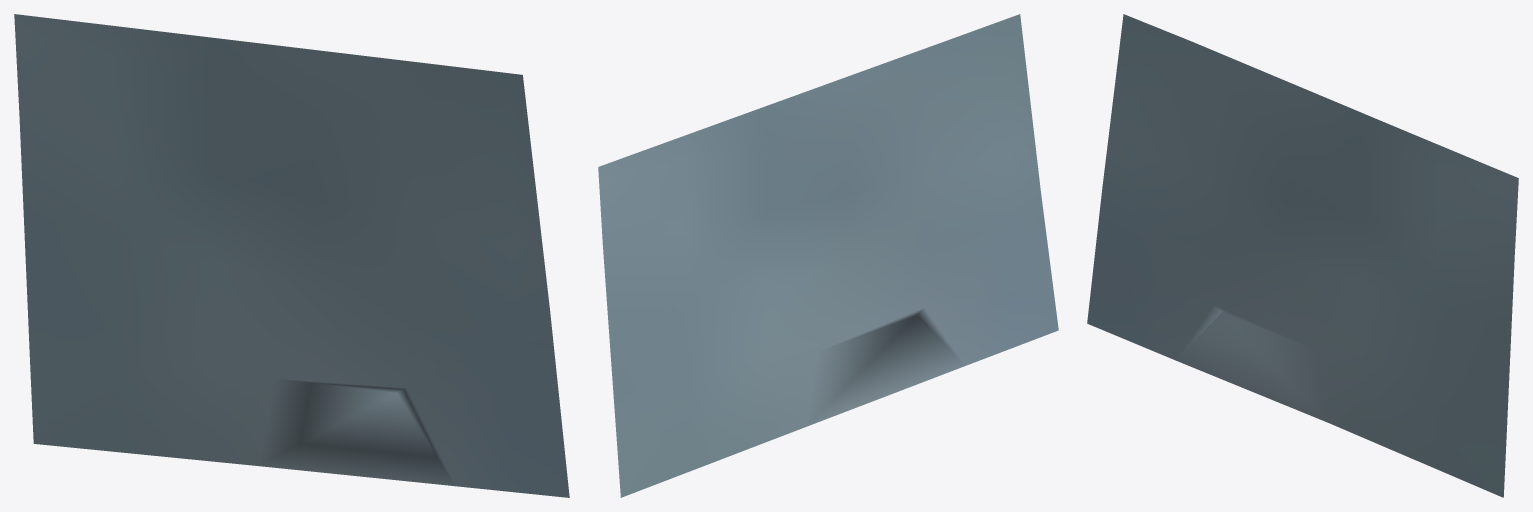
3 renders of one model, left to right at view 1: azimuth 90°, elevation 25°; view 2: azimuth 150°, elevation 25°; view 3: azimuth 270°, elevation 25°, orthographic. The views are drawn at different scales.
Visible parts, largest first — view 1: Tile_1.006; view 2: Tile_1.006; view 3: Tile_1.006.
Boxes of the visible parts, <box> form: Tile_1.006: <box>14,14,569,497</box>; Tile_1.006: <box>598,14,1058,497</box>; Tile_1.006: <box>1087,14,1518,497</box>.
Size of the model in its own units: 0.504 by 0.785 by 0.797.
1 material, 1 textured.
